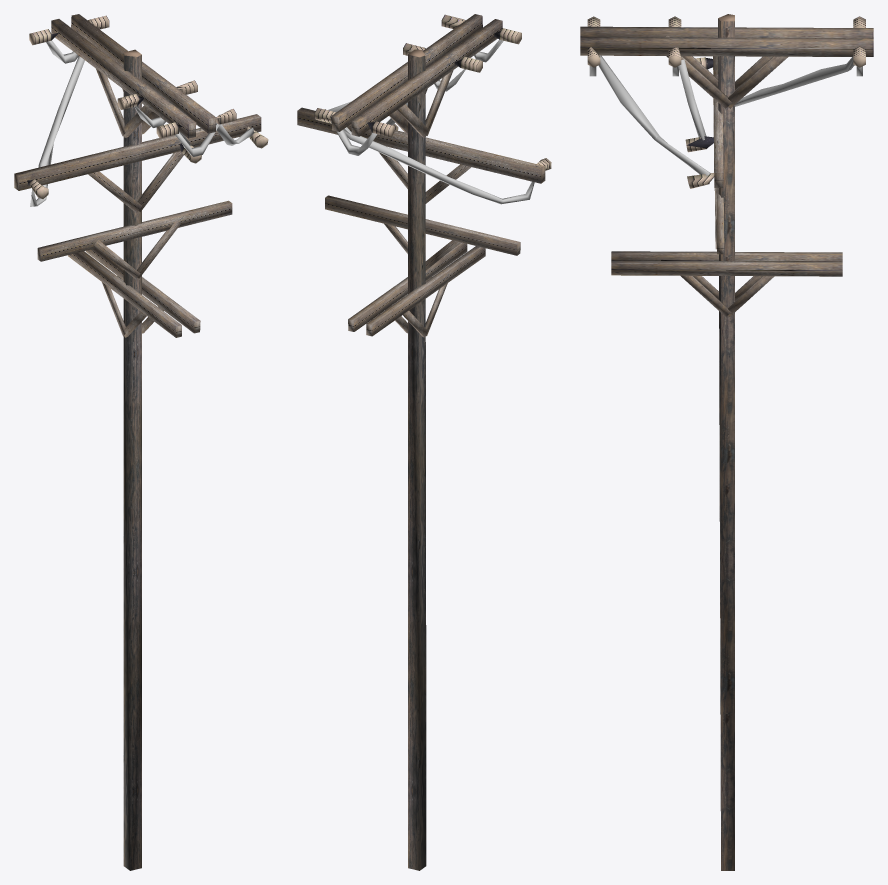
File: PowerPoleJuct_2.fbx
3 views of the same model, side by side, from view 1: azimuth 30°, elevation 25°; view 2: azimuth 150°, elevation 25°; view 3: azimuth 270°, elevation 25° (orthographic). The views are drawn at different scales.
Visible parts, largest first — view 1: main0, pole0, wires0; view 2: main0, pole0, wires0; view 3: main0, pole0, wires0.
Part boxes in pixels (<box>): main0: <box>14,14,268,337</box>; pole0: <box>123,49,141,870</box>; wires0: <box>30,40,254,206</box>; main0: <box>297,14,551,337</box>; pole0: <box>408,49,426,870</box>; wires0: <box>327,39,534,204</box>; main0: <box>580,16,873,316</box>; pole0: <box>718,14,734,870</box>; wires0: <box>589,55,862,175</box>.
Bounding box in the file's own units: 2.91 × 9.3 × 2.91.
